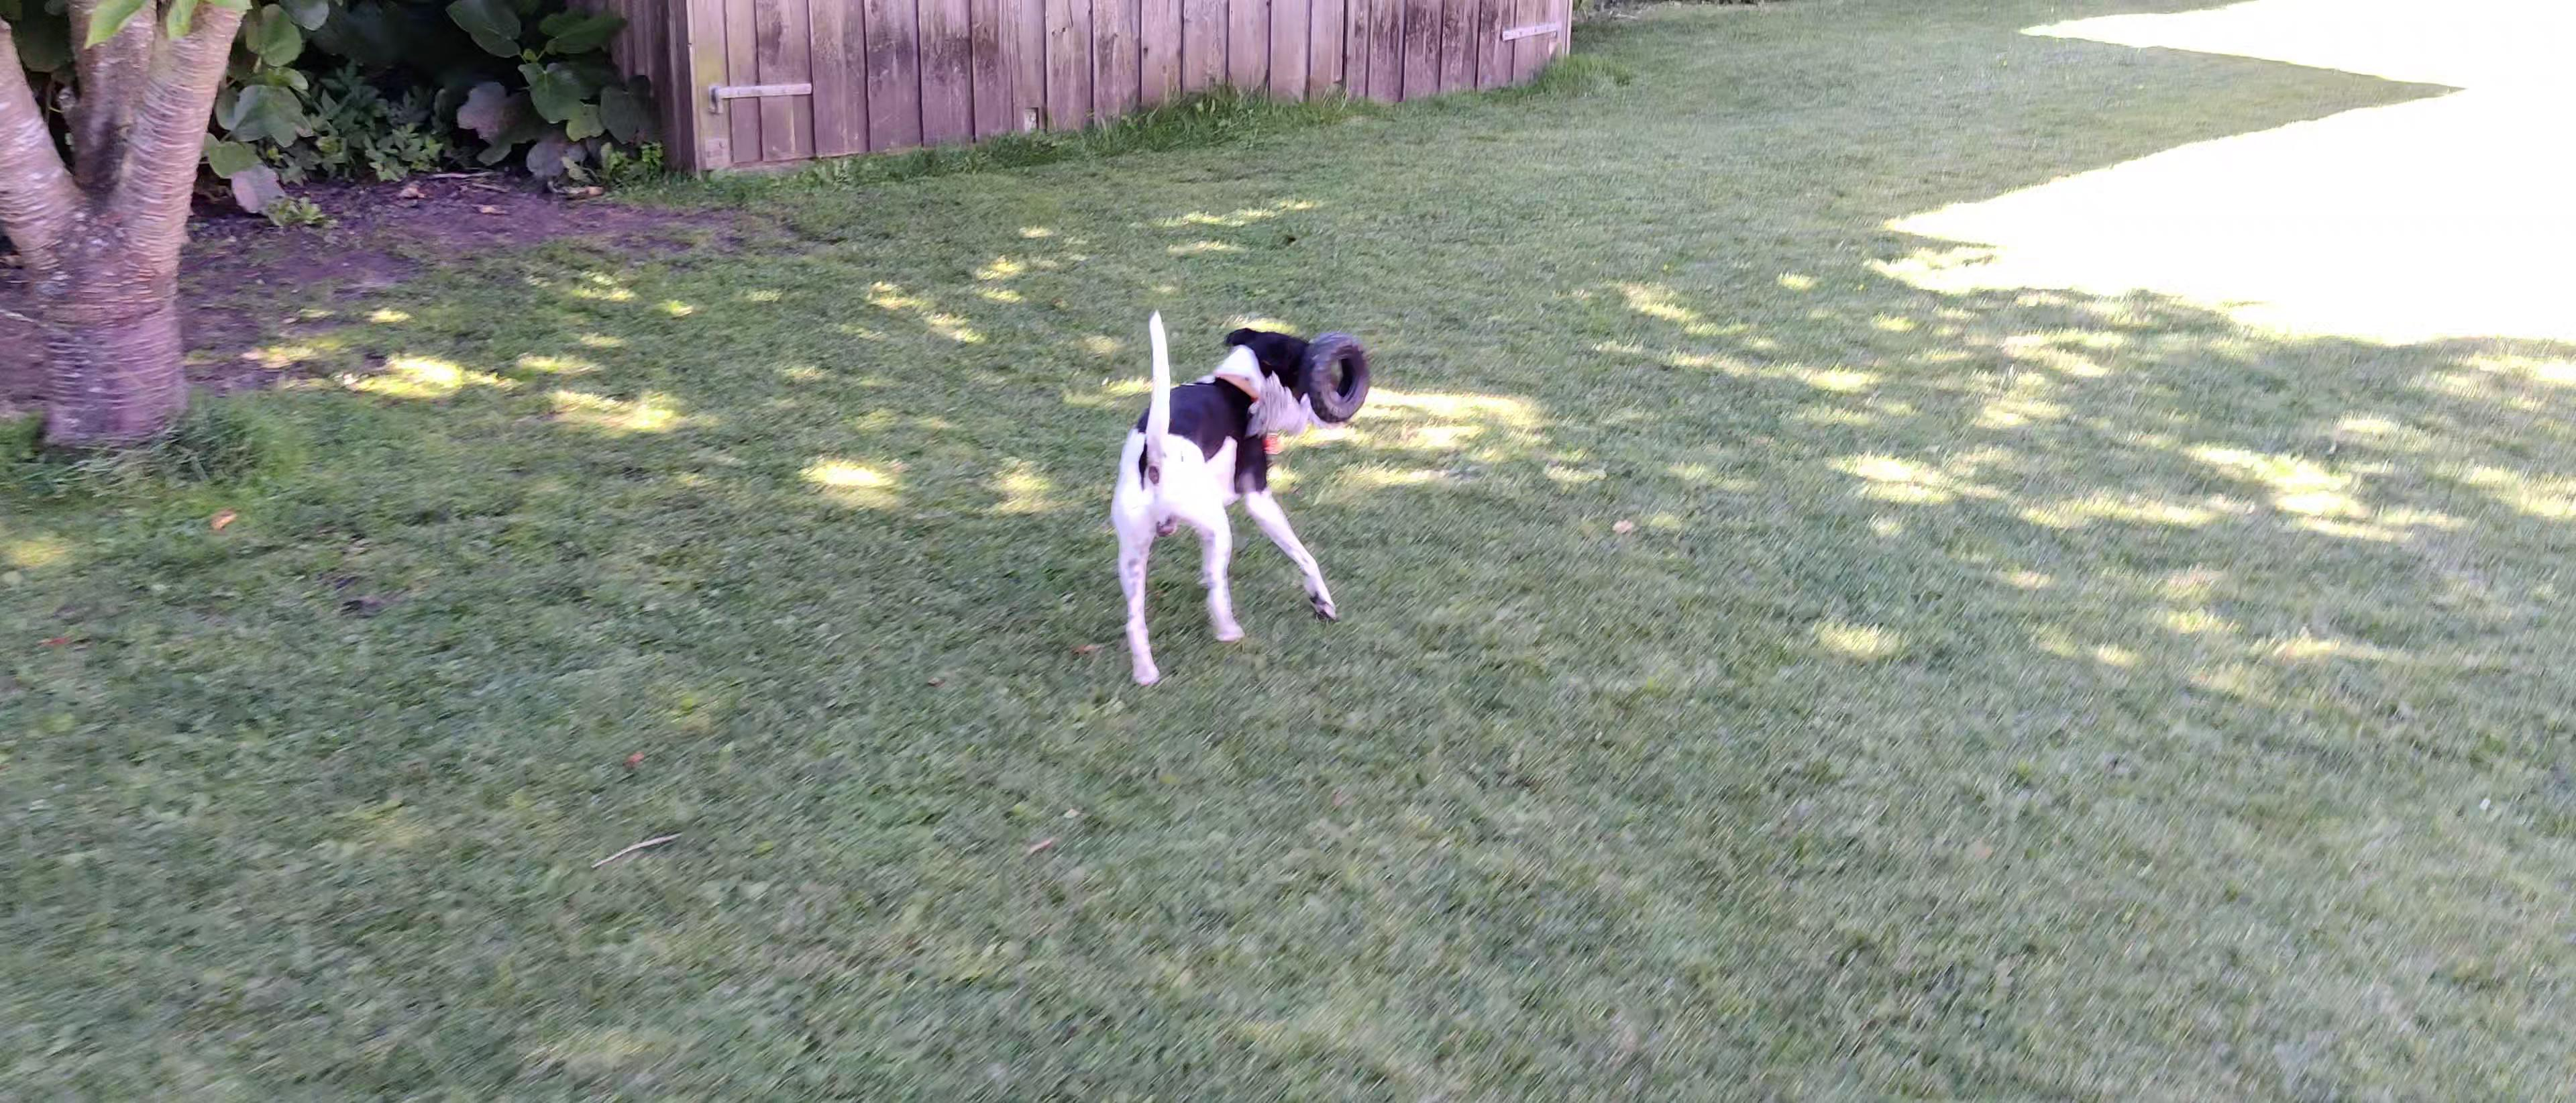Dog: (1106, 304, 1339, 687)
